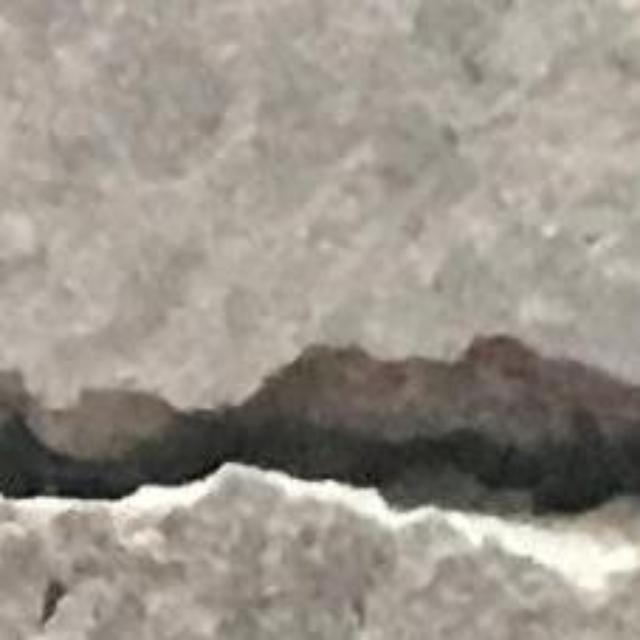crack: (0, 336, 639, 515)
